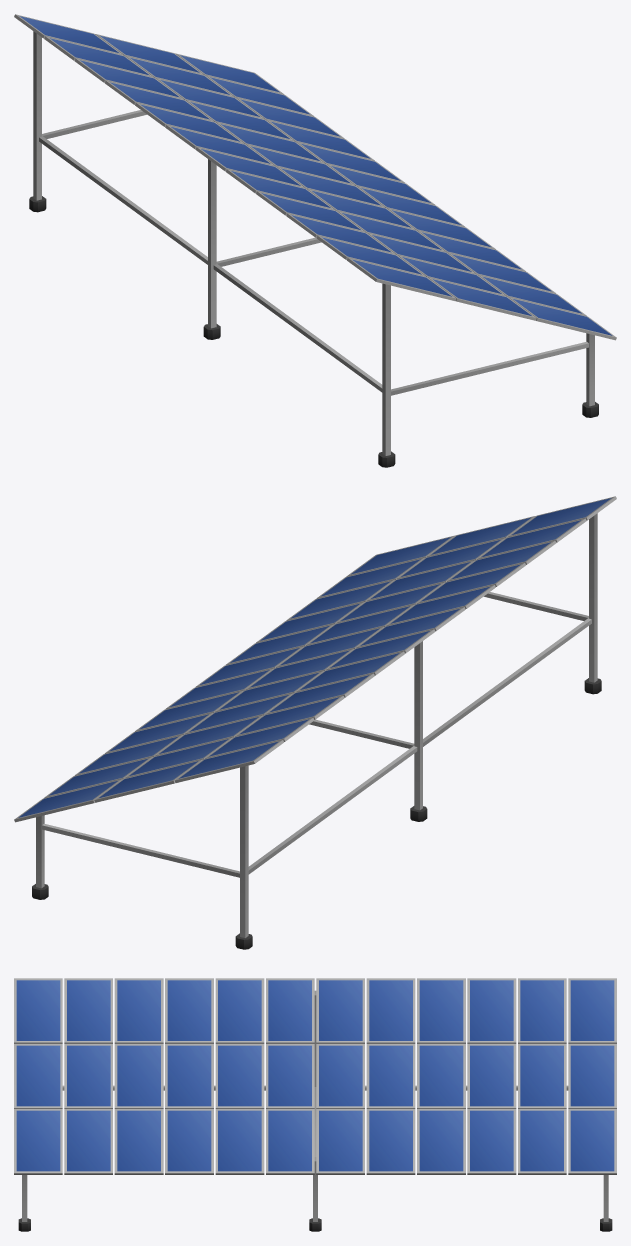
The model's file is OBJ_SolarPanel.fbx.
The picture shows the model from 3 angles, top to bottom: view 1: azimuth 30°, elevation 25°; view 2: azimuth 150°, elevation 25°; view 3: azimuth 270°, elevation 25°; orthographic projection. The views are drawn at different scales.
Parts seen in each view (by area): view 1: OBJ_SolarPanel; view 2: OBJ_SolarPanel; view 3: OBJ_SolarPanel.
Part boxes in pixels (x1,y1,x2,y2): OBJ_SolarPanel: (14, 14, 616, 467); OBJ_SolarPanel: (14, 496, 616, 949); OBJ_SolarPanel: (14, 978, 616, 1231).
Size of the model in its own units: 47.39 by 36.39 by 123.
